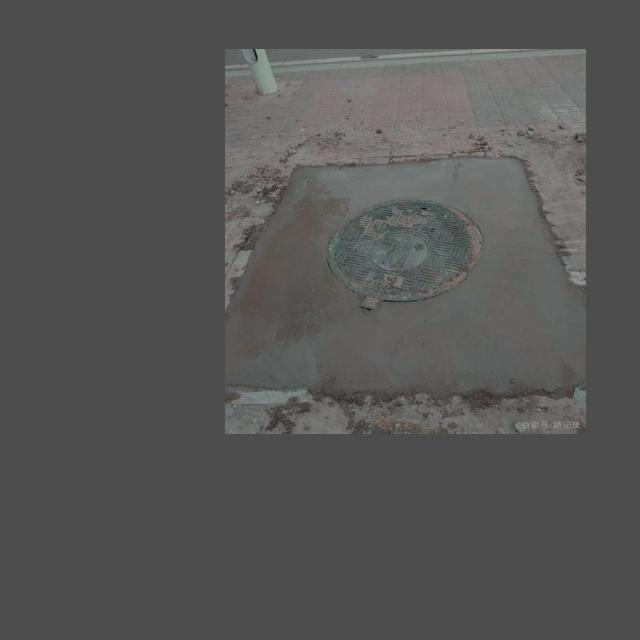good: (236, 154, 573, 406)
